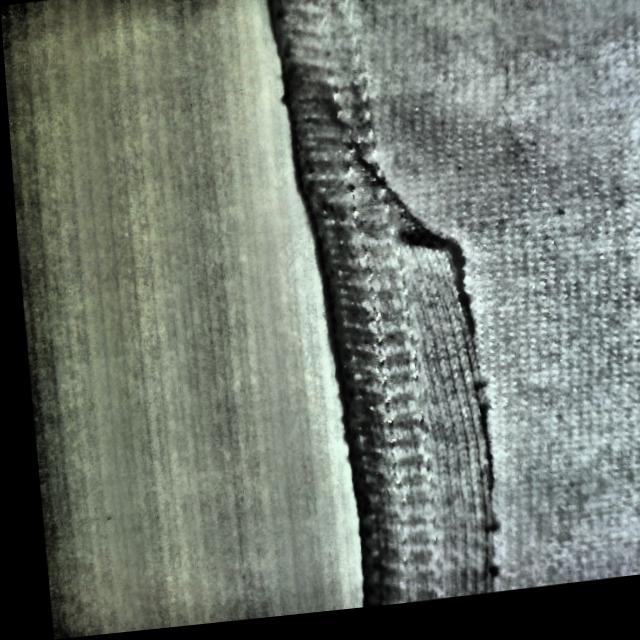seam: (313, 186, 537, 616)
